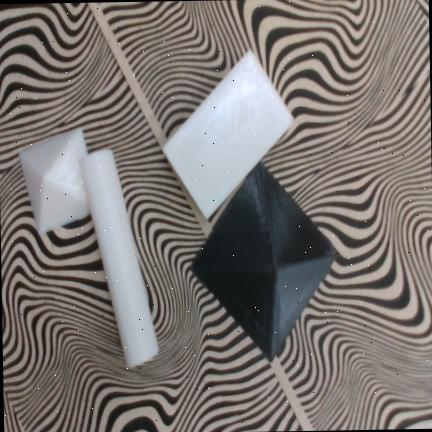Cilindro: (79, 149, 158, 366)
Paralelepipedo: (161, 50, 293, 219)
Piramide: (190, 163, 336, 361), (18, 127, 89, 232)
